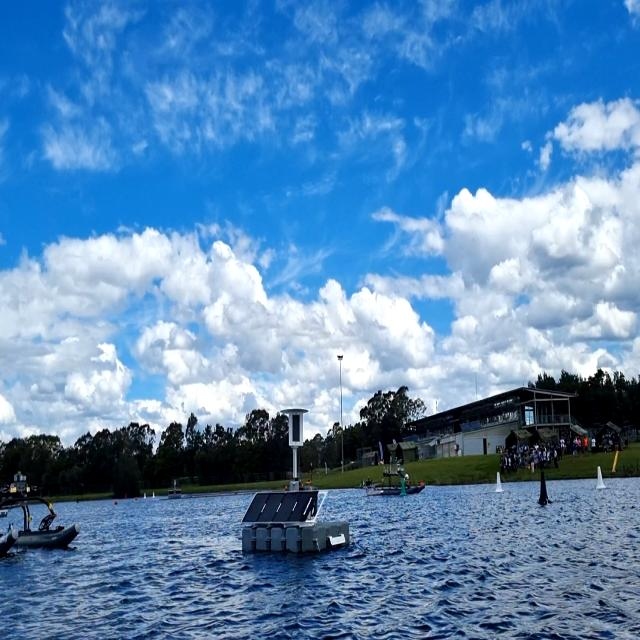led: (290, 412, 302, 445)
